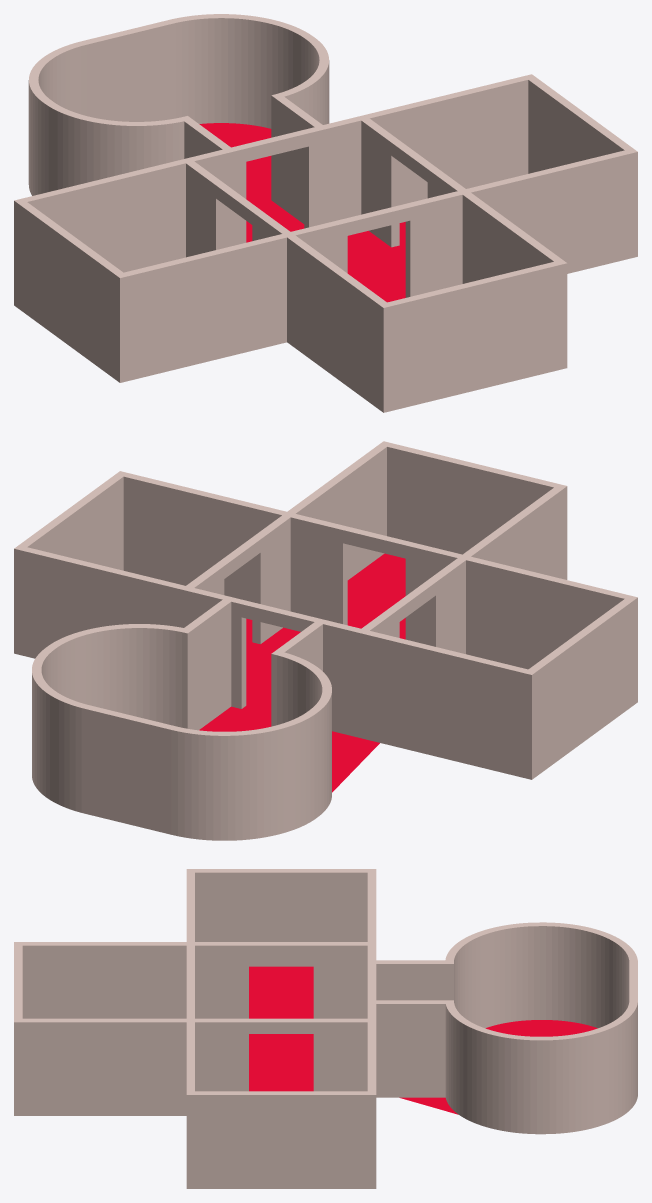
The model's file is musee.fbx.
The picture shows the model from 3 angles, top to bottom: view 1: azimuth 30°, elevation 25°; view 2: azimuth 150°, elevation 25°; view 3: azimuth 270°, elevation 25°; orthographic projection. The views are drawn at different scales.
Visible parts, largest first — view 1: Room, Room.001, Floor, Room.004, Room.002, Room.003; view 2: Room, Room.001, Floor, Room.002, Room.003, Room.004; view 3: Room, Room.003, Room.004, Floor, Room.001, Room.002.
Boxes of the visible parts, left/top/right/bottom form: Room: left=14, top=14, right=637, bottom=412; Room.001: left=286, top=189, right=468, bottom=297; Floor: left=199, top=123, right=405, bottom=302; Room.004: left=361, top=118, right=469, bottom=247; Room.002: left=181, top=117, right=369, bottom=247; Room.003: left=186, top=159, right=290, bottom=257; Room: left=14, top=441, right=637, bottom=840; Room.001: left=287, top=512, right=468, bottom=644; Floor: left=199, top=553, right=405, bottom=792; Room.002: left=181, top=586, right=369, bottom=738; Room.003: left=356, top=558, right=465, bottom=737; Room.004: left=186, top=513, right=292, bottom=644; Room: left=14, top=869, right=637, bottom=1188; Room.003: left=191, top=942, right=371, bottom=1018; Room.004: left=187, top=1018, right=375, bottom=1091; Floor: left=249, top=966, right=597, bottom=1114; Room.001: left=186, top=942, right=194, bottom=1018; Room.002: left=367, top=942, right=376, bottom=1000.
Size of the model in its own units: 1240 by 240 by 1447.
